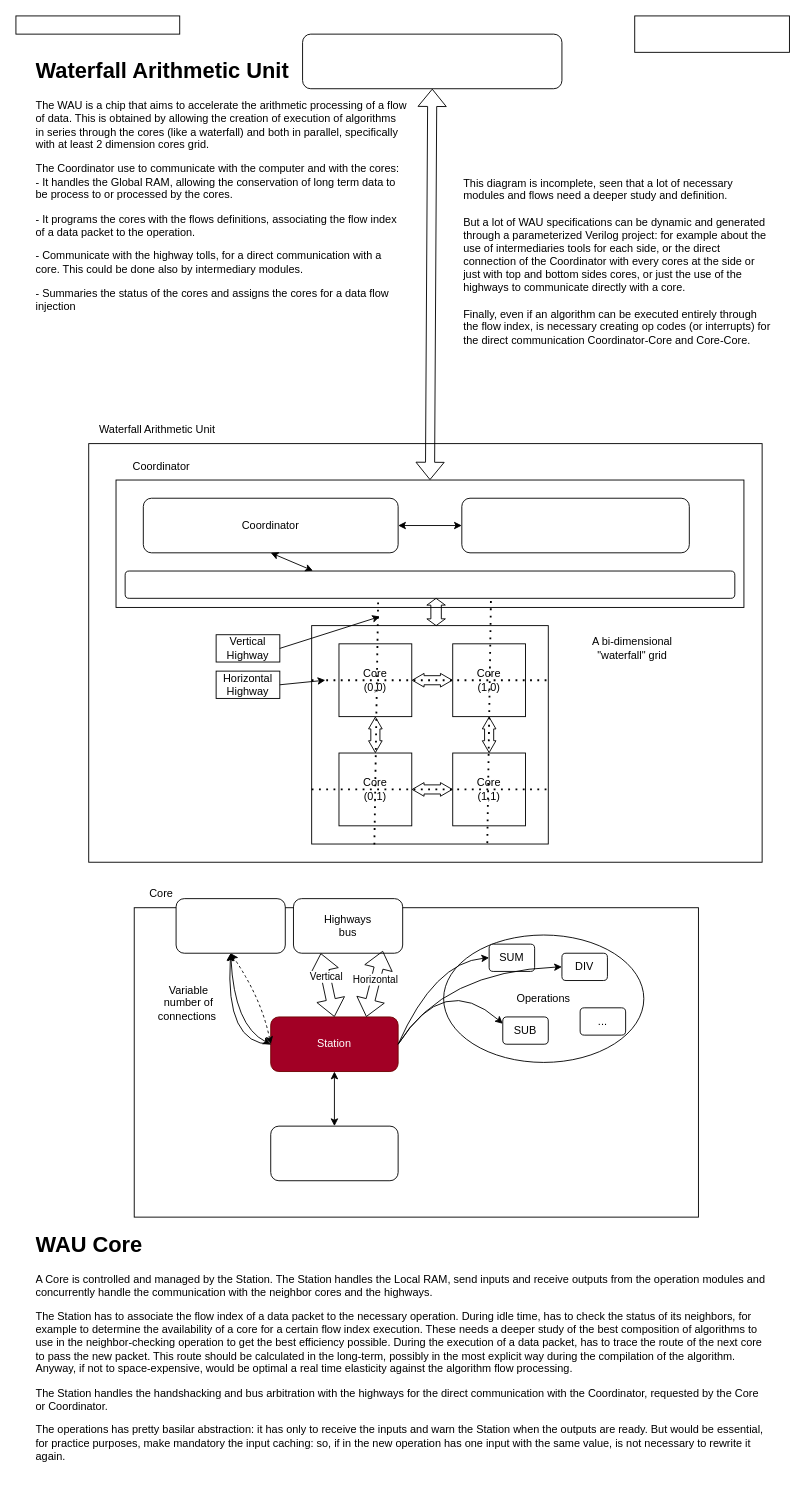
Image size: 805x1500. Some labels were removed from this diagram. Each missing label, with the centre of its shape:
Computer: the point at 432,61
Data stream pins: the point at 429,584
Global RAM: the point at 575,525
Local RAM: the point at 334,1153
Neighbor cores: the point at 230,925
rcecchini.ds@gmail.com August 2024: the point at 711,33
Riccardo Cecchini: the point at 97,24
